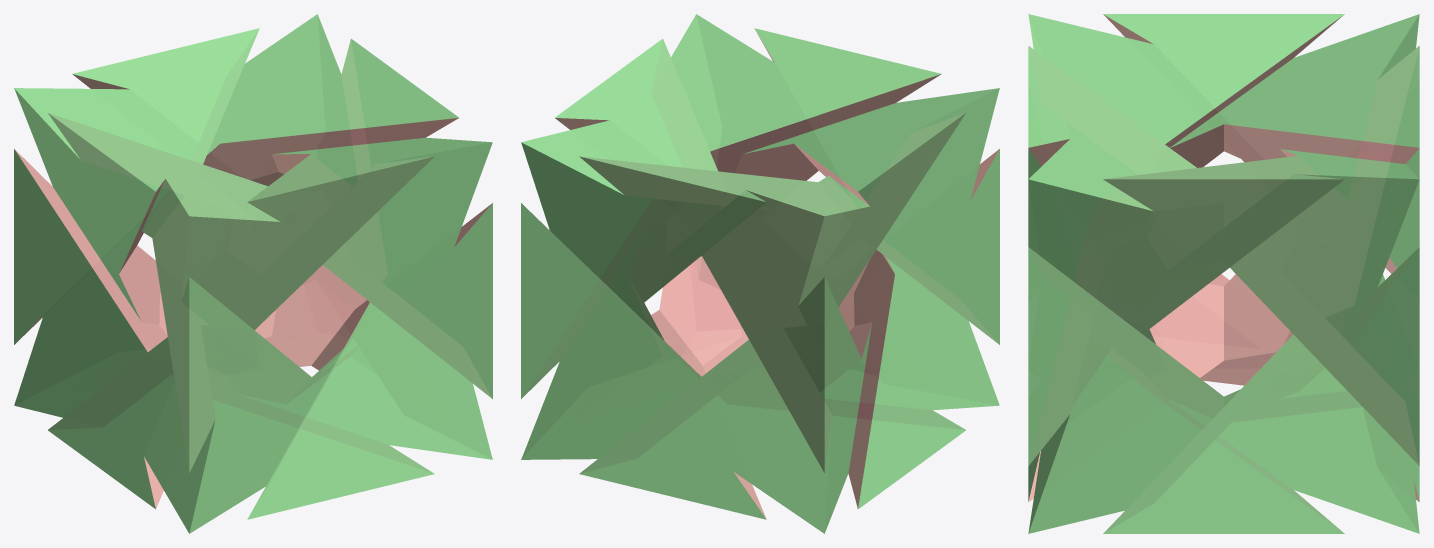
Rendered from RegularMap_C.obj.
3 renders of one model, left to right at view 1: azimuth 30°, elevation 25°; view 2: azimuth 150°, elevation 25°; view 3: azimuth 270°, elevation 25°, orthographic. The views are drawn at different scales.
Size of the model in its own units: 1.68 by 1.68 by 1.68.
